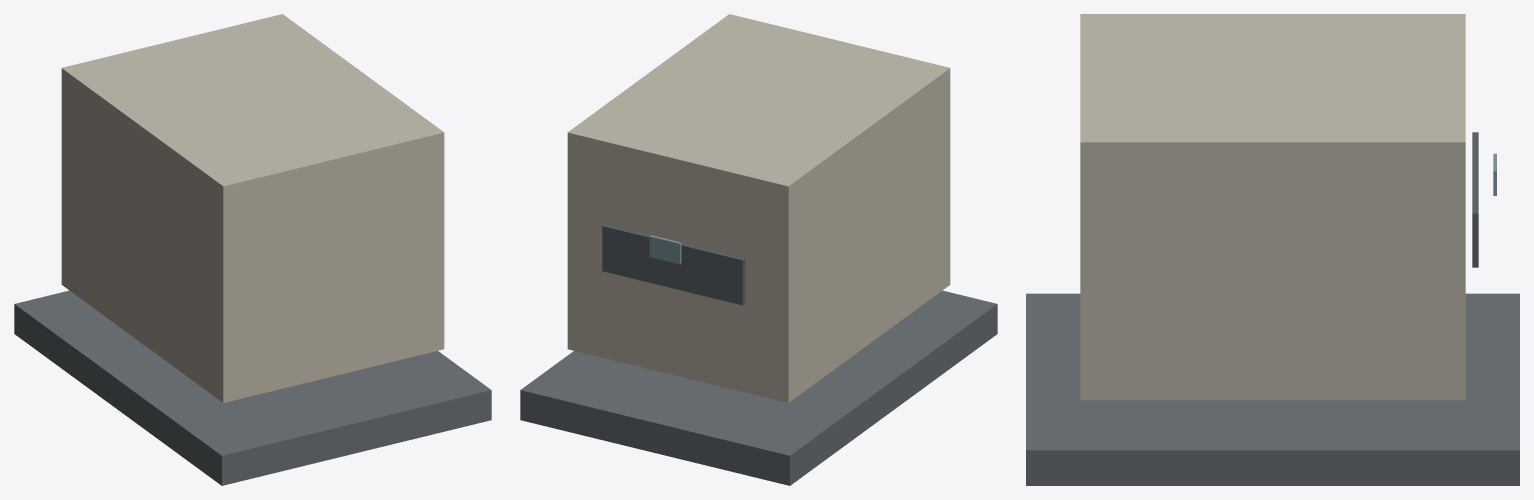
Rendered from iz3_prison_cell_01.glb.
3 renders of one model, left to right at view 1: azimuth 30°, elevation 25°; view 2: azimuth 150°, elevation 25°; view 3: azimuth 270°, elevation 25°, orthographic. The views are drawn at different scales.
Visible parts, largest first — view 1: cabinet, base; view 2: cabinet, base, panel, display; view 3: cabinet, base, panel.
Part boxes in pixels (box(x1,y1,x2,y2)): cabinet: box(61, 14, 444, 402); base: box(14, 290, 491, 485); cabinet: box(567, 14, 950, 402); base: box(520, 290, 997, 485); panel: box(602, 224, 745, 305); display: box(649, 235, 681, 264); cabinet: box(1080, 14, 1465, 400); base: box(1026, 293, 1519, 485); panel: box(1472, 132, 1478, 267).
Size of the model in its own units: 3 by 2.94 by 4.
